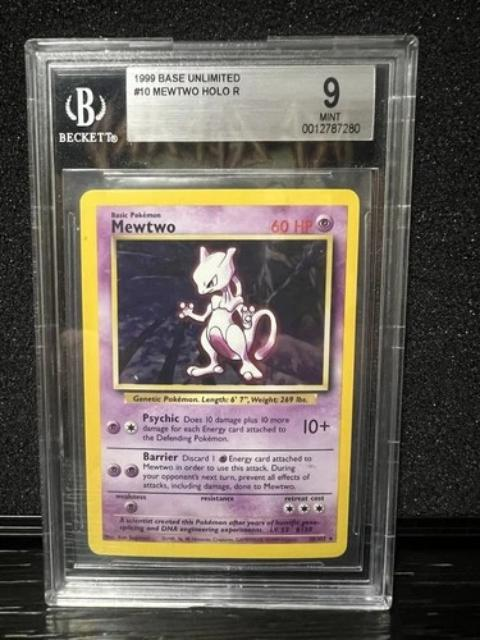Card: (78, 177, 362, 562)
Name: (105, 214, 178, 238)
